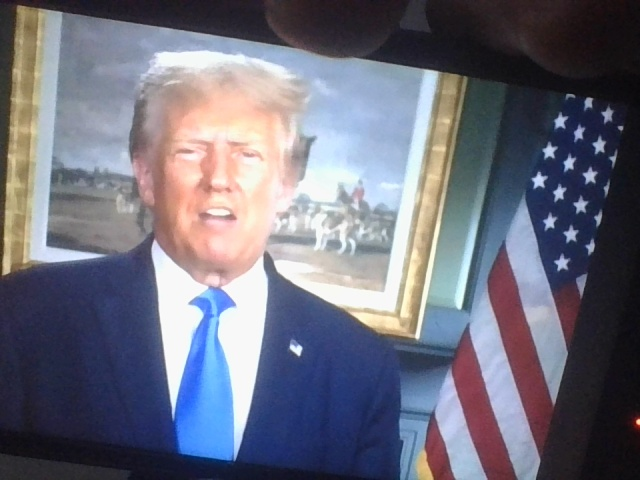fake: (137, 41, 302, 275)
